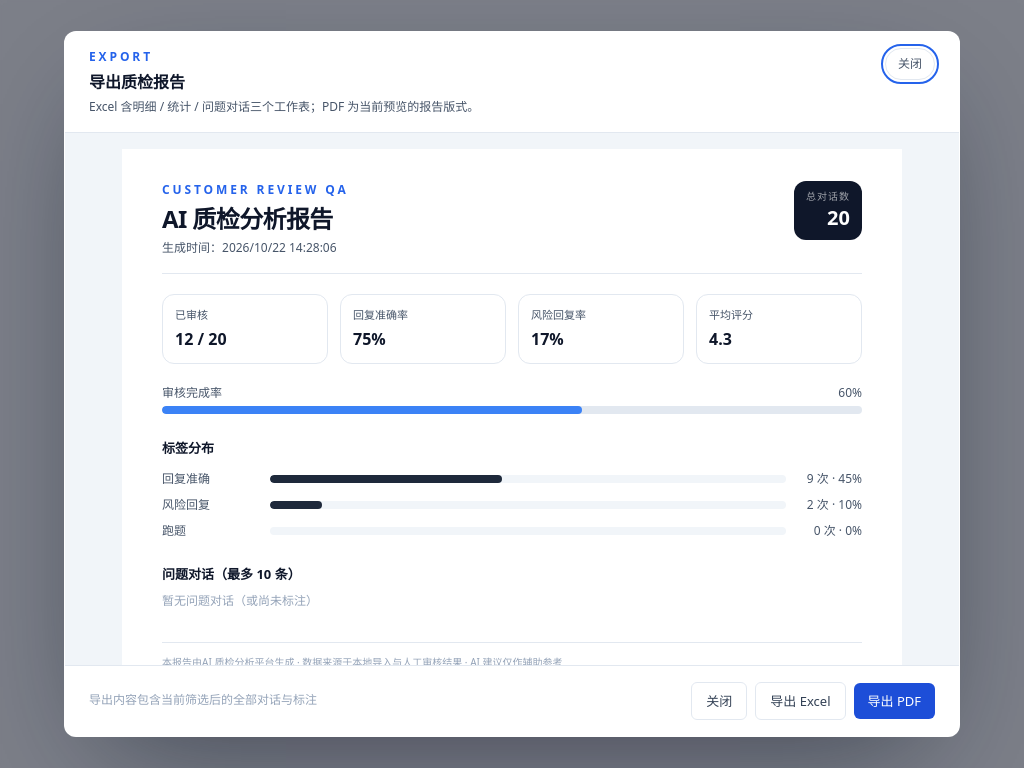
ExportReportPanel Excel 导出 › Excel 导出抛非 Error → 展示兜底文案「Excel 导出失败」
Click the button "导出 Excel" at (800, 701), box [755, 682, 846, 720]
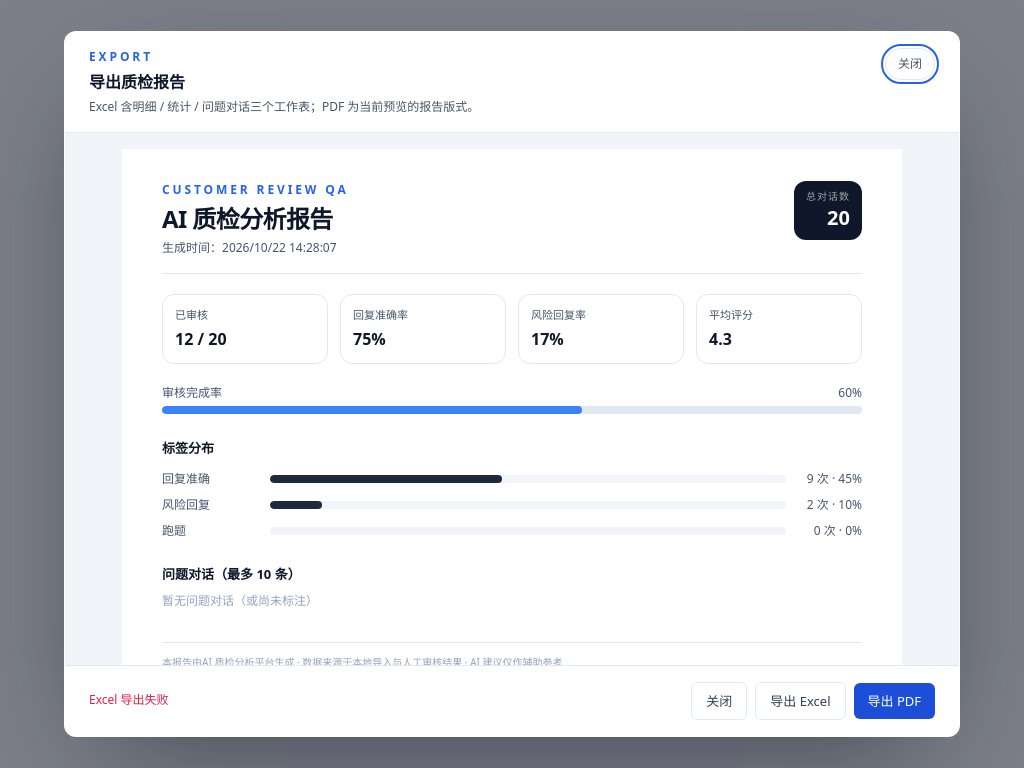
Now the text "Excel 导出失败" is shown, box [89, 691, 168, 708]
